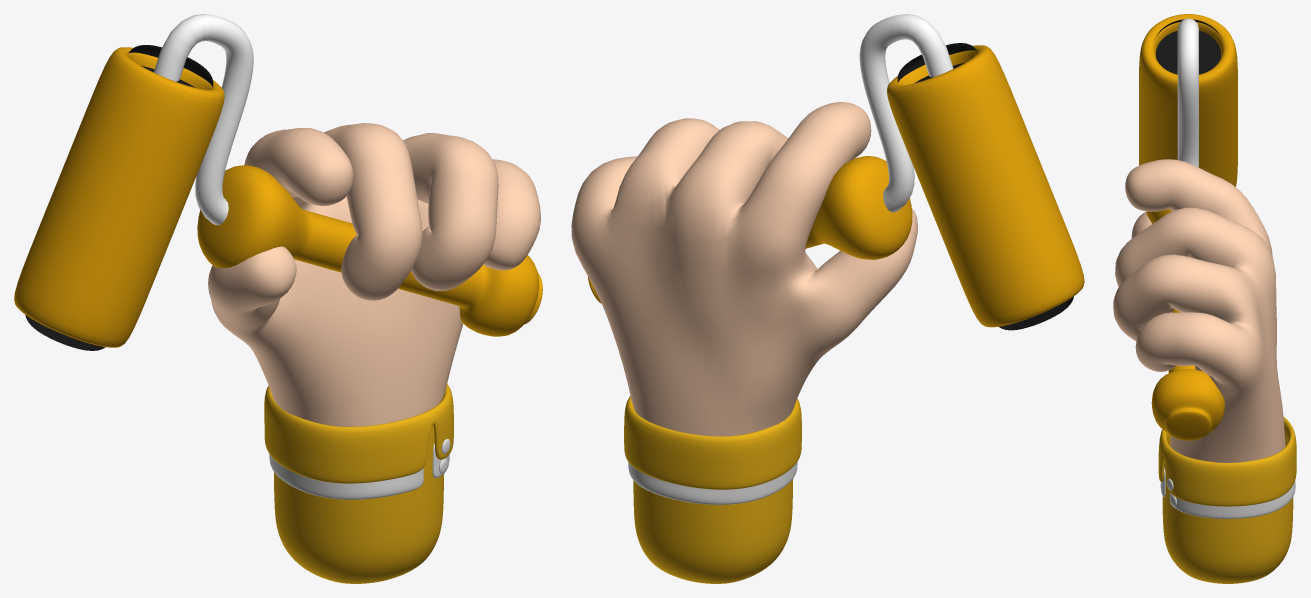
3 views of the same model, side by side, from view 1: azimuth 30°, elevation 25°; view 2: azimuth 150°, elevation 25°; view 3: azimuth 270°, elevation 25° (orthographic). The views are drawn at different scales.
Parts seen in each view (by area): view 1: Sphere.004, Circle.006; view 2: Sphere.004, Circle.006; view 3: Sphere.004, Circle.006.
Boxes of the visible parts, <box> form: Sphere.004: <box>208,123,540,583</box>; Circle.006: <box>14,14,542,350</box>; Sphere.004: <box>571,102,917,583</box>; Circle.006: <box>588,14,1084,330</box>; Sphere.004: <box>1113,159,1296,583</box>; Circle.006: <box>1139,14,1237,440</box>.
Size of the model in its own units: 2.05 by 2.35 by 0.8119.
